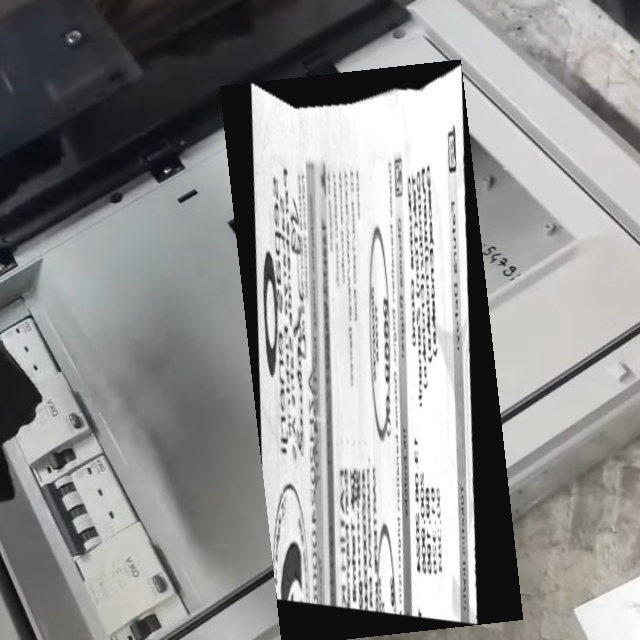electricity-bill: (220, 58, 523, 639)
